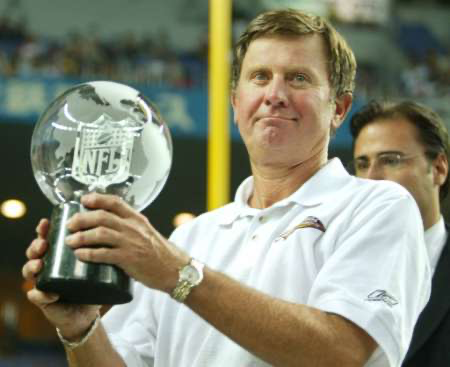Face: (234, 55, 335, 167), (350, 131, 440, 225)
